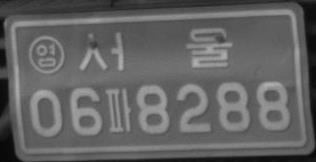0: (29, 88, 62, 138)
2: (175, 82, 211, 133)
6: (68, 85, 103, 137)
8: (215, 80, 250, 132), (256, 80, 291, 132), (135, 83, 170, 134)
서울_D: (78, 26, 232, 72)
영: (28, 35, 65, 75)
파: (104, 87, 131, 132)
